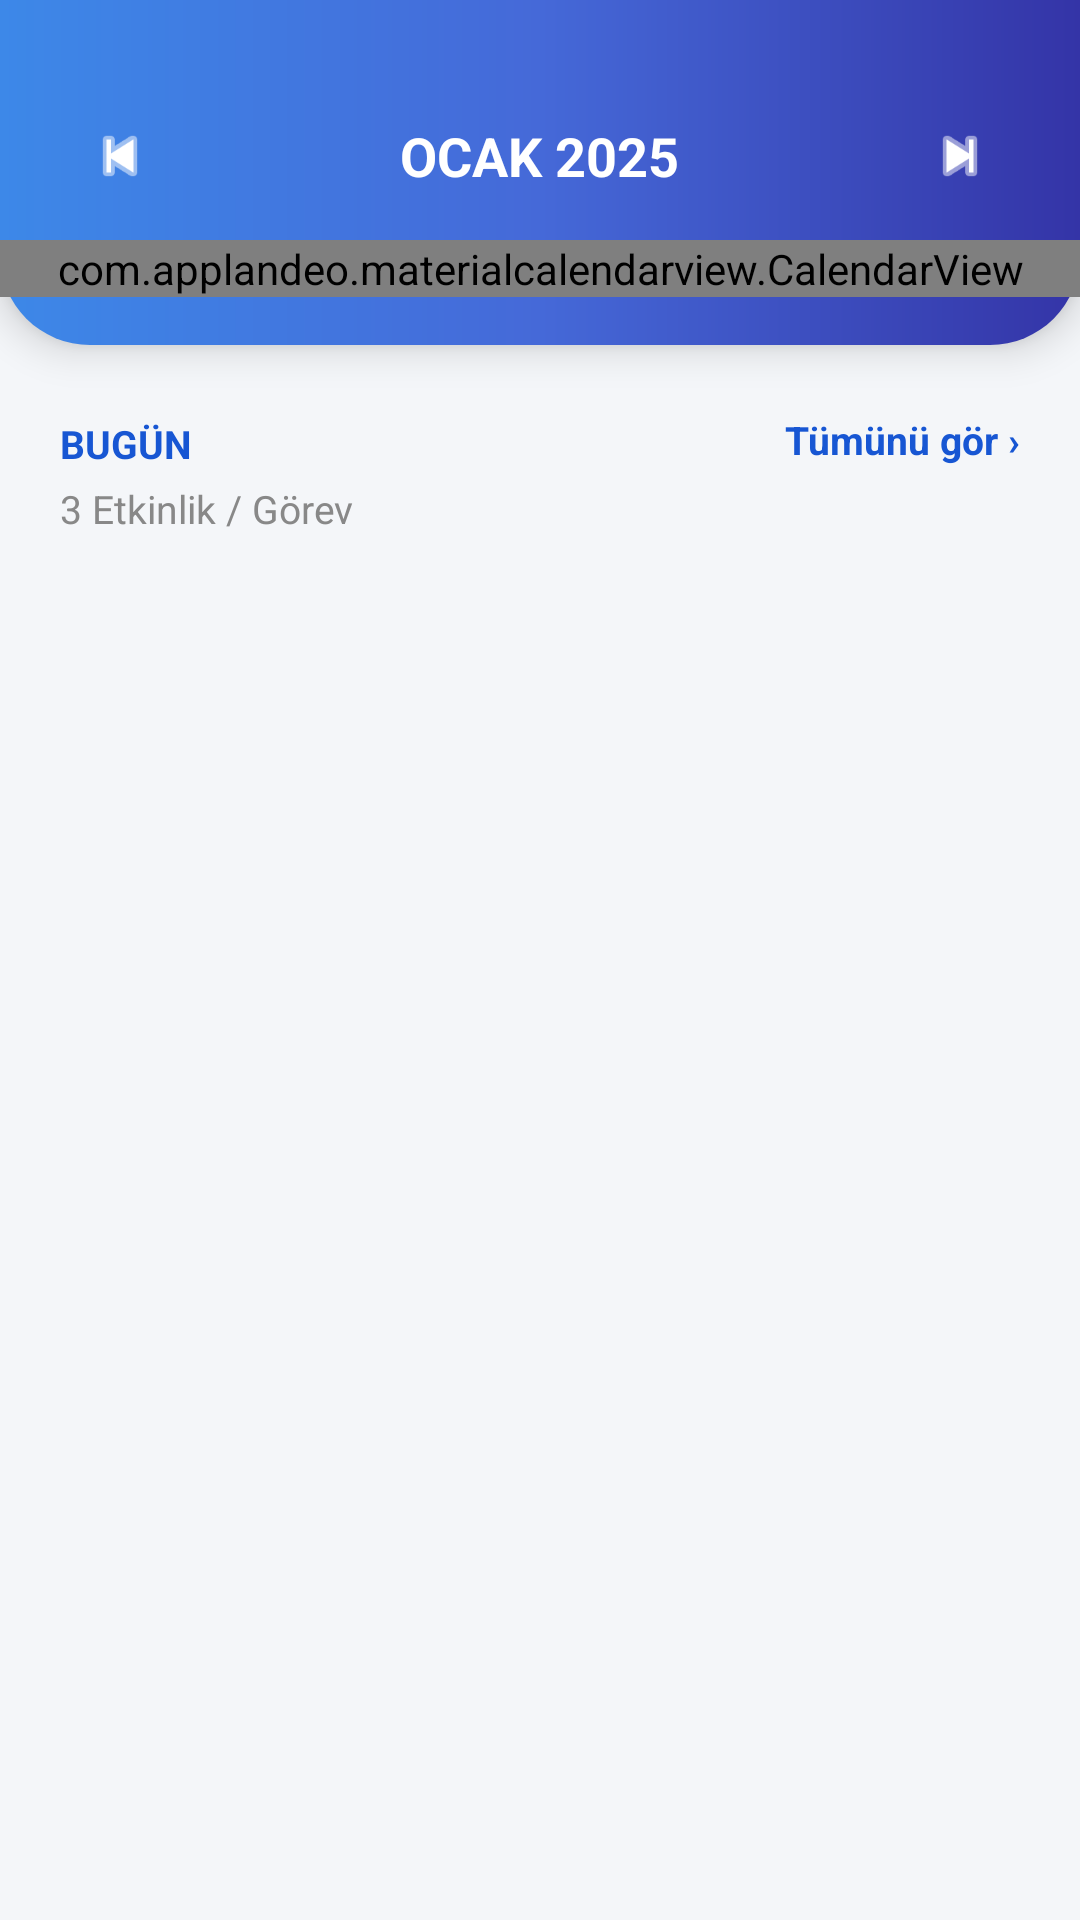

Where icons sit on this 1080*1920 app screen, as (x1, y1, x2, y2):
next: (943, 136, 977, 176)
previous: (103, 136, 137, 176)
